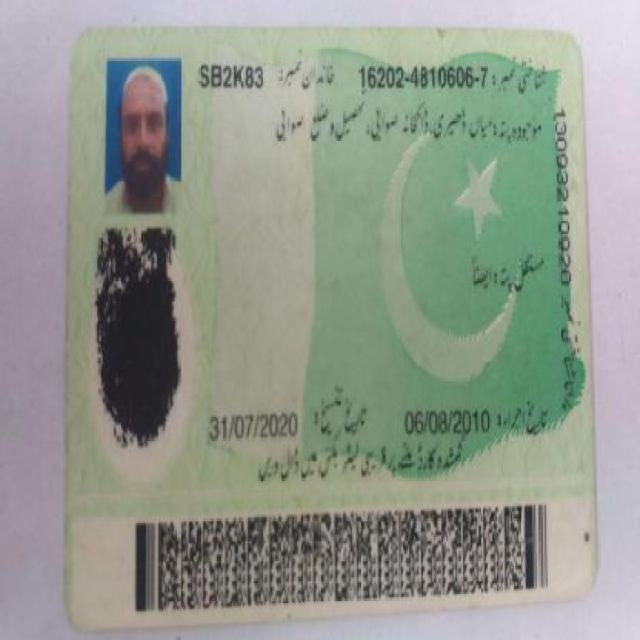Back: (67, 23, 598, 609)
